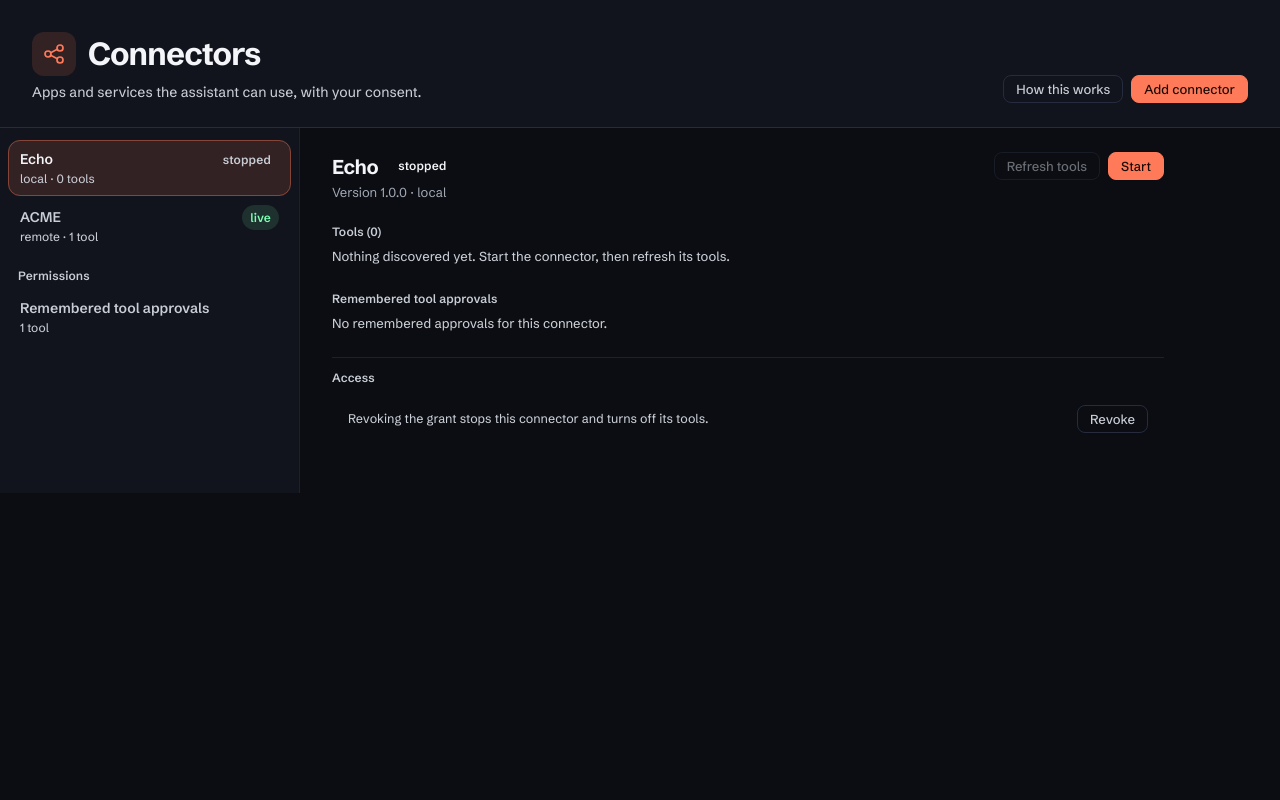
ConnectorsPage › selects the first connector by default and switches on click
Check: the heading "Echo" is shown, box [332,154,378,178]
Check: the text "Nothing discovered yet" is shown, box [332,248,730,264]
Click the button "ACME live remote · 1 tool" at x=40, y=217, box [8,198,291,254]
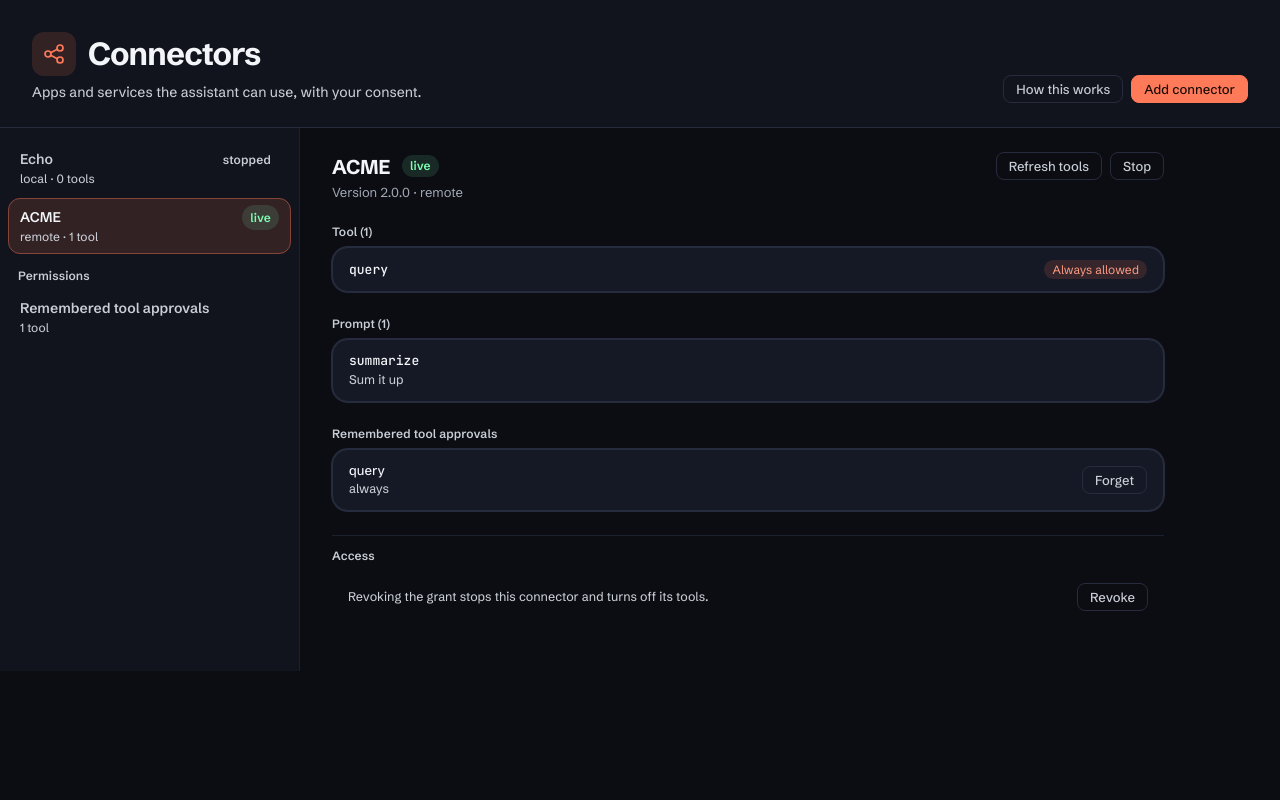
Check: the heading "ACME" is shown, box [332,154,390,178]
Check: the text "query" is shown 2 times, box [349,261,388,278]; [349,462,385,478]
Check: the text "Always allowed" is shown, box [1044,260,1147,279]
